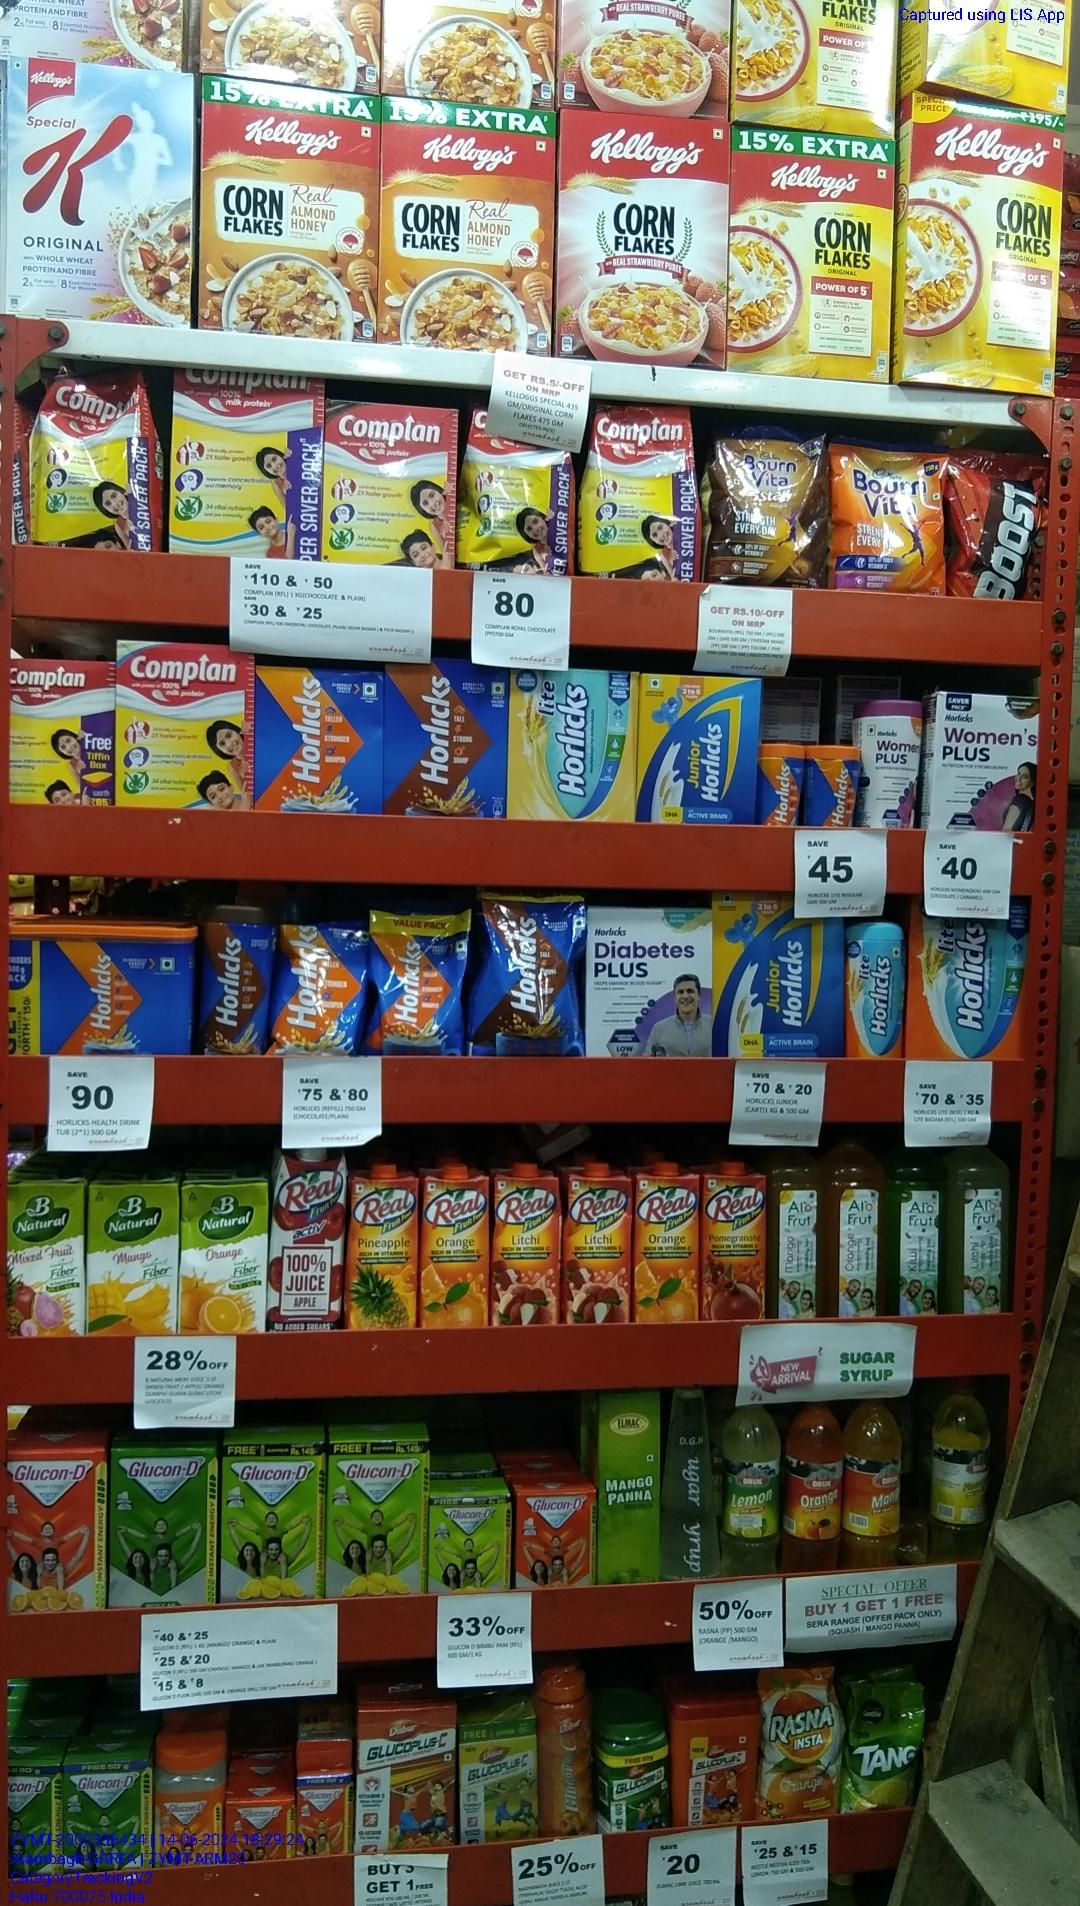BOURN_VITA_750_G_POUCH: (829, 439, 948, 594)
BOURN_VITA_FIVE_STAR_MAGIC_500_G_POUCH: (711, 428, 826, 585)
COMPLAN_CHOCOLATE_200_GMS_PACK: (321, 398, 457, 568)
COMPLAN_CREAMY_CLASSIC_500_G_PACK: (117, 639, 253, 810)
COMPLAN_RC_POUCH_700_GMS_12: (27, 367, 153, 551), (579, 402, 702, 579), (461, 435, 573, 573)
HORLICKS_LITE_REGULAR_MALT_500_GM_JAR: (846, 923, 905, 1056)
HORLICK_CHOCOLATE_200_G_JAR: (198, 906, 274, 1056)
HORLICK_CHOCOLATE_500_G_PACK: (384, 661, 508, 821)
HORLICK_CHOCOLATE_750_G_POUCH: (475, 888, 586, 1059)
HORLICK_CLASSIC_MALT_200_G_JAR: (806, 747, 861, 826), (765, 744, 805, 825)
HORLICK_CLASSIC_MALT_500_G_PACK: (255, 665, 380, 814)
HORLICK_CLASSIC_MALT_750_G_POUCH: (368, 908, 466, 1059)
HORLICK_MALT_1_KG_CONTAINER: (8, 926, 192, 1051)
